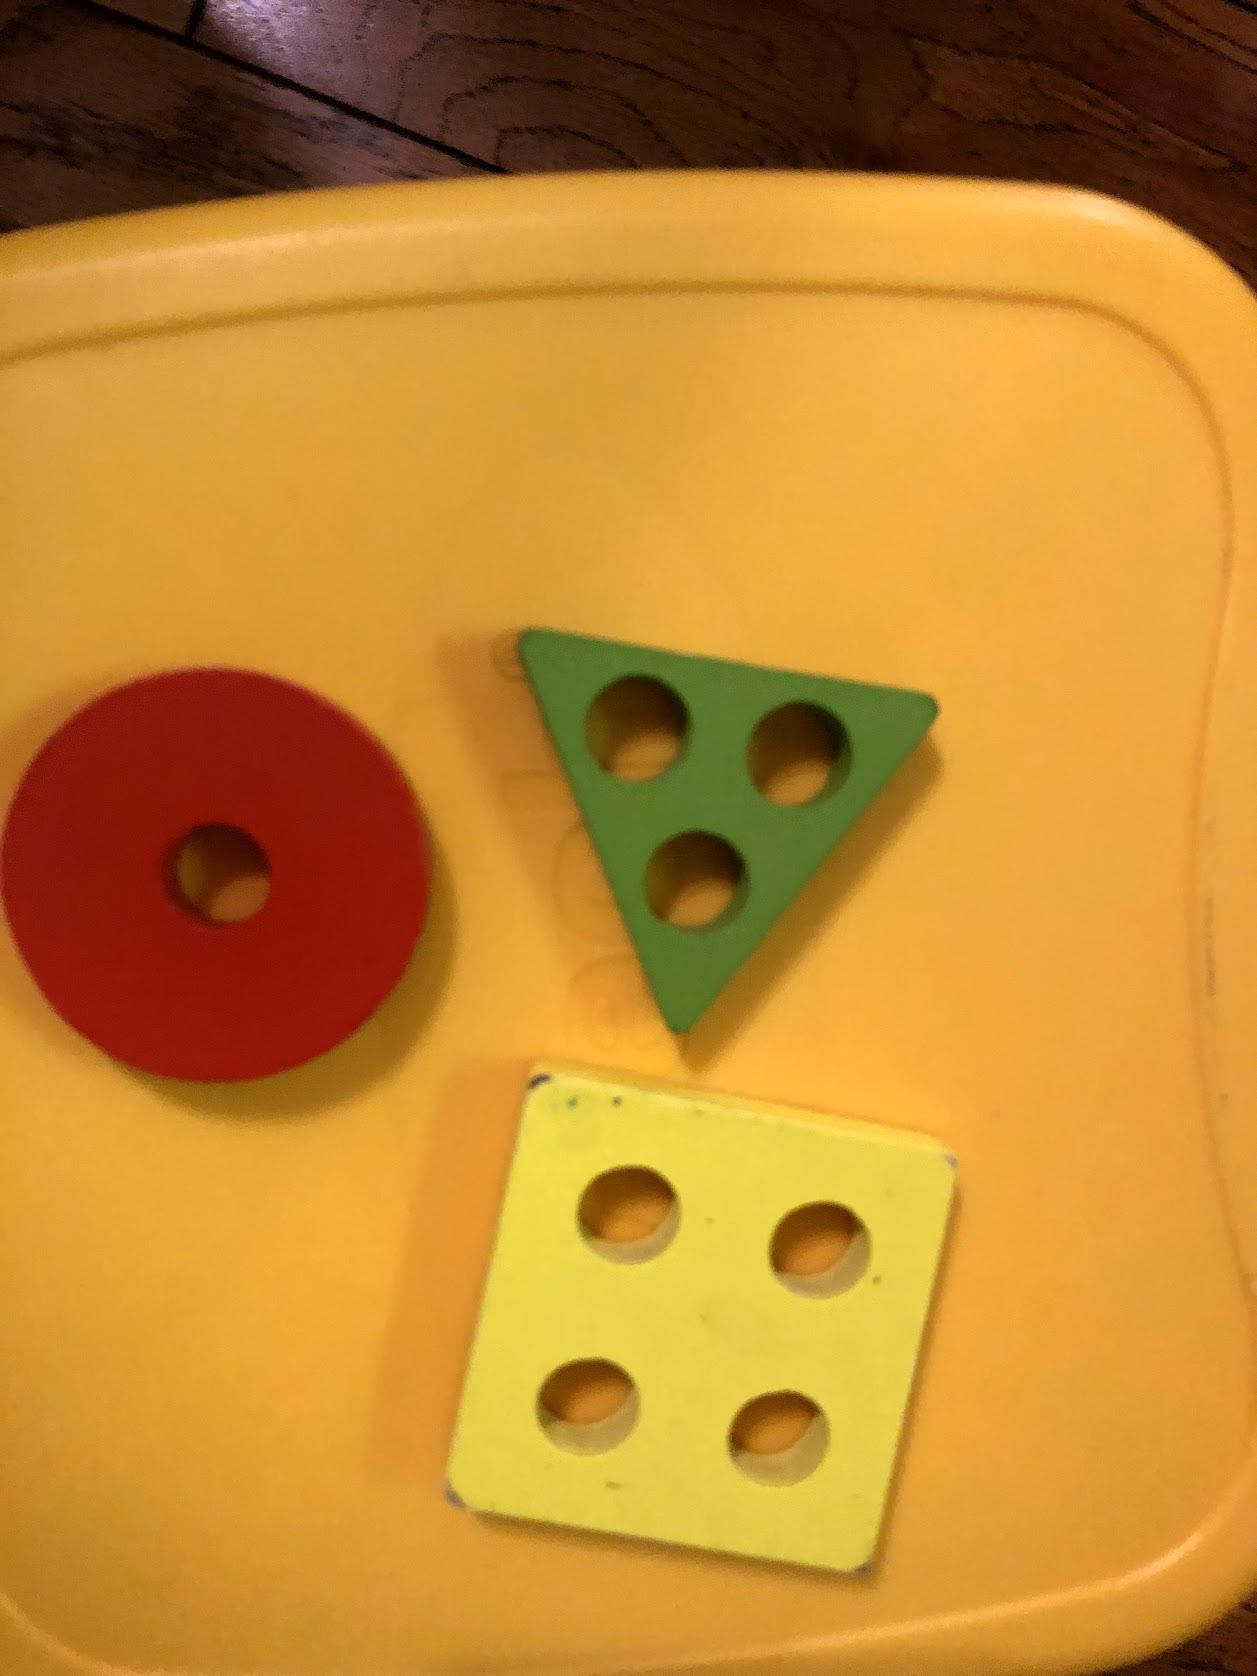Circle: (5, 662, 437, 1091)
Square: (450, 1058, 956, 1581)
Triangle: (514, 622, 941, 1045)
